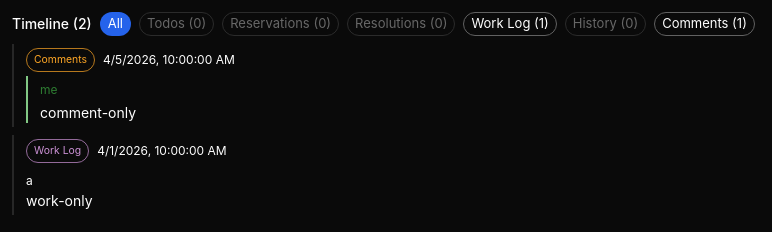
Test: UnifiedTimeline › clicking a kind chip filters the timeline; All resets
The width and height of the screenshot is (772, 232).
Check: the text "work-only" is shown, box [26, 192, 93, 209]
Check: the text "comment-only" is shown, box [40, 104, 136, 121]
Click the button "Comments (1)" at x=704, y=24, box [654, 12, 755, 36]
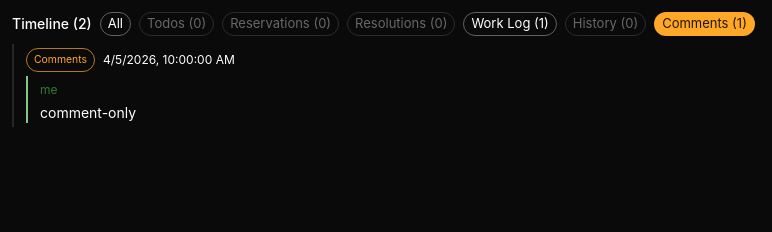
Check: the text "comment-only" is shown, box [40, 104, 136, 121]
Check: the text "work-only" is gone
Click the button "All" at x=115, y=24, box [100, 12, 131, 36]
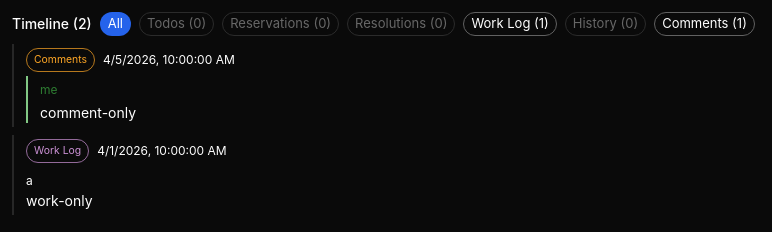
Check: the text "comment-only" is shown, box [40, 104, 136, 121]
Check: the text "work-only" is shown, box [26, 192, 93, 209]
